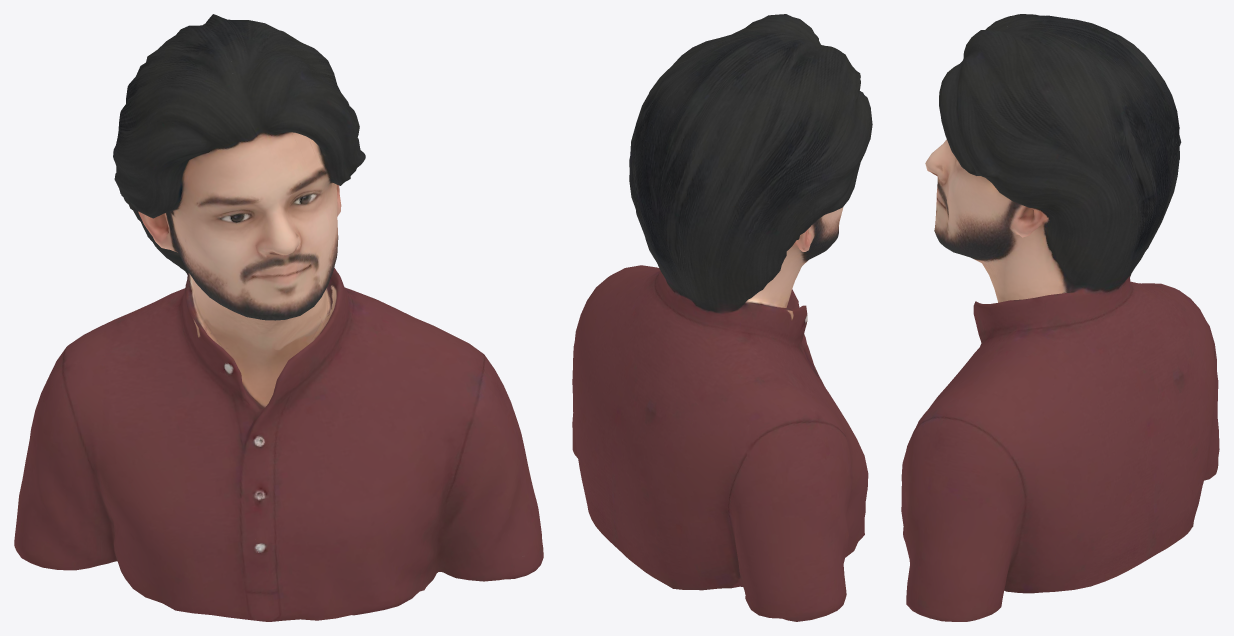
Rendered from akshay_cp_animated2.glb.
3 renders of one model, left to right at view 1: azimuth 30°, elevation 25°; view 2: azimuth 150°, elevation 25°; view 3: azimuth 270°, elevation 25°, orthographic. The views are drawn at different scales.
Parts seen in each view (by area): view 1: tripo_node_415cab02-8d75-4a72-8963-49ad67c993b0; view 2: tripo_node_415cab02-8d75-4a72-8963-49ad67c993b0; view 3: tripo_node_415cab02-8d75-4a72-8963-49ad67c993b0.
Boxes of the visible parts, <box> form: tripo_node_415cab02-8d75-4a72-8963-49ad67c993b0: <box>14,14,543,621</box>; tripo_node_415cab02-8d75-4a72-8963-49ad67c993b0: <box>572,14,872,621</box>; tripo_node_415cab02-8d75-4a72-8963-49ad67c993b0: <box>901,14,1219,621</box>.
Bounding box in the file's own units: 0.7033 × 0.9195 × 0.5339.
Materials: 1 (1 with a texture image).
